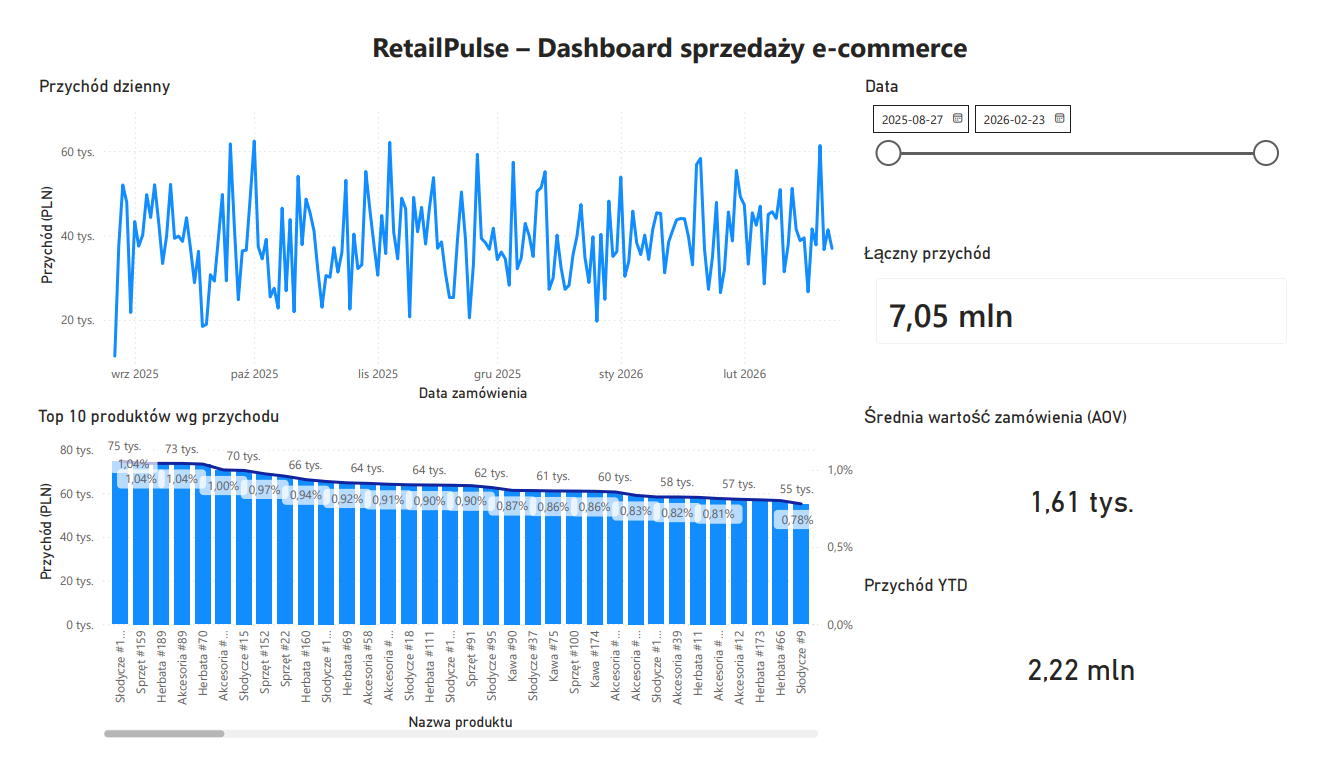

This screenshot's page, from the dashboard's own definition file:
{"tool":"powerbi","page":{"name":"Strona 1","canvas":[1280,720],"ordinal":0},"visuals":[{"type":"lineChart","title":"Przychód dzienny","fields":{"Category":["dim_date.order_date.Odmiana.Hierarchia dat.Rok"],"Y":["dim_date.Revenue"]},"box":[10,53.5,824.7,329.6],"z":0},{"type":"lineStackedColumnComboChart","title":"Top 10 produktów wg przychodu","fields":{"Category":["dim_product.product_name"],"Y":["fact_sales.m_Revenue"],"Y2":["fact_sales.m_Product_Share"]},"box":[9.4,383.1,825.6,337.3],"z":1000},{"type":"card","title":"Średnia wartość zamówienia (AOV)","fields":{"Values":["fact_sales.AOV"]},"box":[834.7,383.1,445.3,169.2],"z":2000},{"type":"textbox","box":[343.3,0,617,53.5],"z":3000},{"type":"slicer","title":"Data","fields":{"Values":["dim_date.order_date"]},"box":[835.9,53.5,426.7,165.4],"z":4000},{"type":"cardVisual","title":"Łączny przychód","fields":{"Data":["fact_sales.m_Revenue"]},"box":[834.7,218.9,445.3,119.4],"z":4001},{"type":"card","title":"Przychód YTD","fields":{"Values":["fact_sales.m_Revenue_YTD"]},"box":[834.7,552.3,445.3,167.9],"z":4002}]}

Visuals, with their boxes in screenshot pixels (x1, y1, x2, y2), scaled from the page's 1280x720 canvas onto the 1326x765 screenshot:
"Przychód dzienny" lineChart: {"left": 10, "top": 57, "right": 865, "bottom": 407}
"Top 10 produktów wg przychodu" lineStackedColumnComboChart: {"left": 10, "top": 407, "right": 865, "bottom": 764}
"Średnia wartość zamówienia (AOV)" card: {"left": 865, "top": 407, "right": 1325, "bottom": 587}
textbox: {"left": 356, "top": 0, "right": 995, "bottom": 57}
"Data" slicer: {"left": 866, "top": 57, "right": 1308, "bottom": 233}
"Łączny przychód" cardVisual: {"left": 865, "top": 233, "right": 1325, "bottom": 359}
"Przychód YTD" card: {"left": 865, "top": 587, "right": 1325, "bottom": 764}
